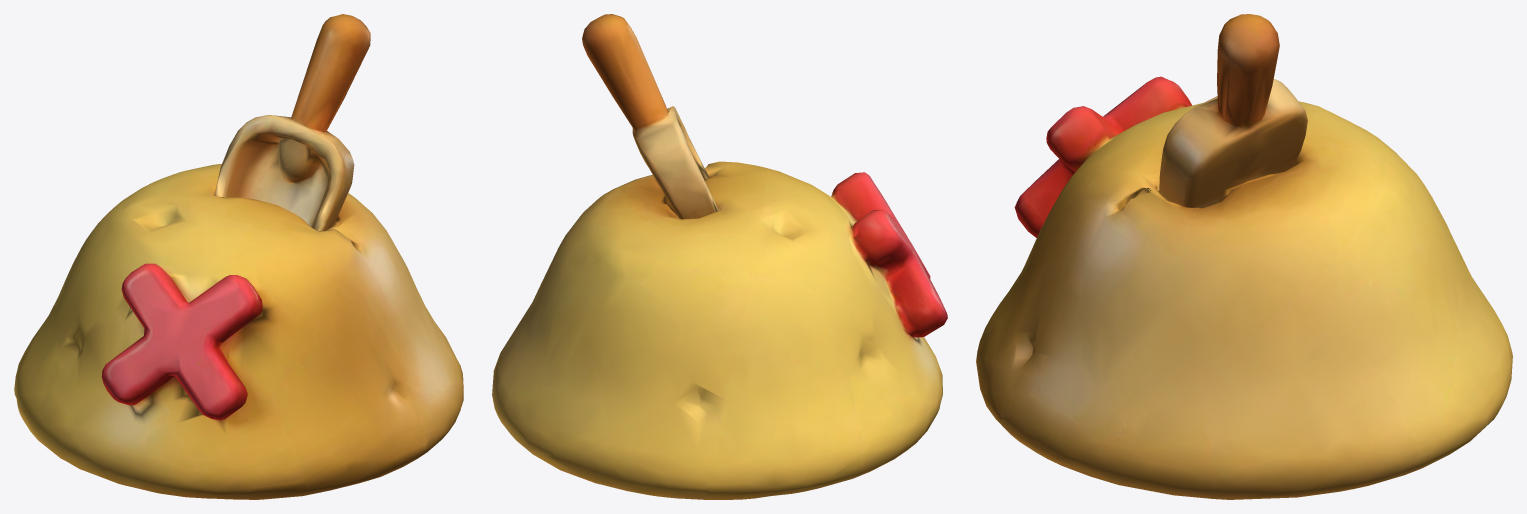
The model's file is x-mound.glb.
3 renders of one model, left to right at view 1: azimuth 30°, elevation 25°; view 2: azimuth 150°, elevation 25°; view 3: azimuth 270°, elevation 25°, orthographic. The views are drawn at different scales.
Parts seen in each view (by area): view 1: tripo_node_42d2e716-94a3-4082-be33-2fde06463cf2; view 2: tripo_node_42d2e716-94a3-4082-be33-2fde06463cf2; view 3: tripo_node_42d2e716-94a3-4082-be33-2fde06463cf2.
Part boxes in pixels (box(x1,y1,x2,y2)): tripo_node_42d2e716-94a3-4082-be33-2fde06463cf2: box(14, 14, 463, 499); tripo_node_42d2e716-94a3-4082-be33-2fde06463cf2: box(492, 14, 947, 499); tripo_node_42d2e716-94a3-4082-be33-2fde06463cf2: box(976, 14, 1512, 499).
Bounding box in the file's own units: 0.9978 × 0.9144 × 0.9959.
Materials: 1 (1 with a texture image).
